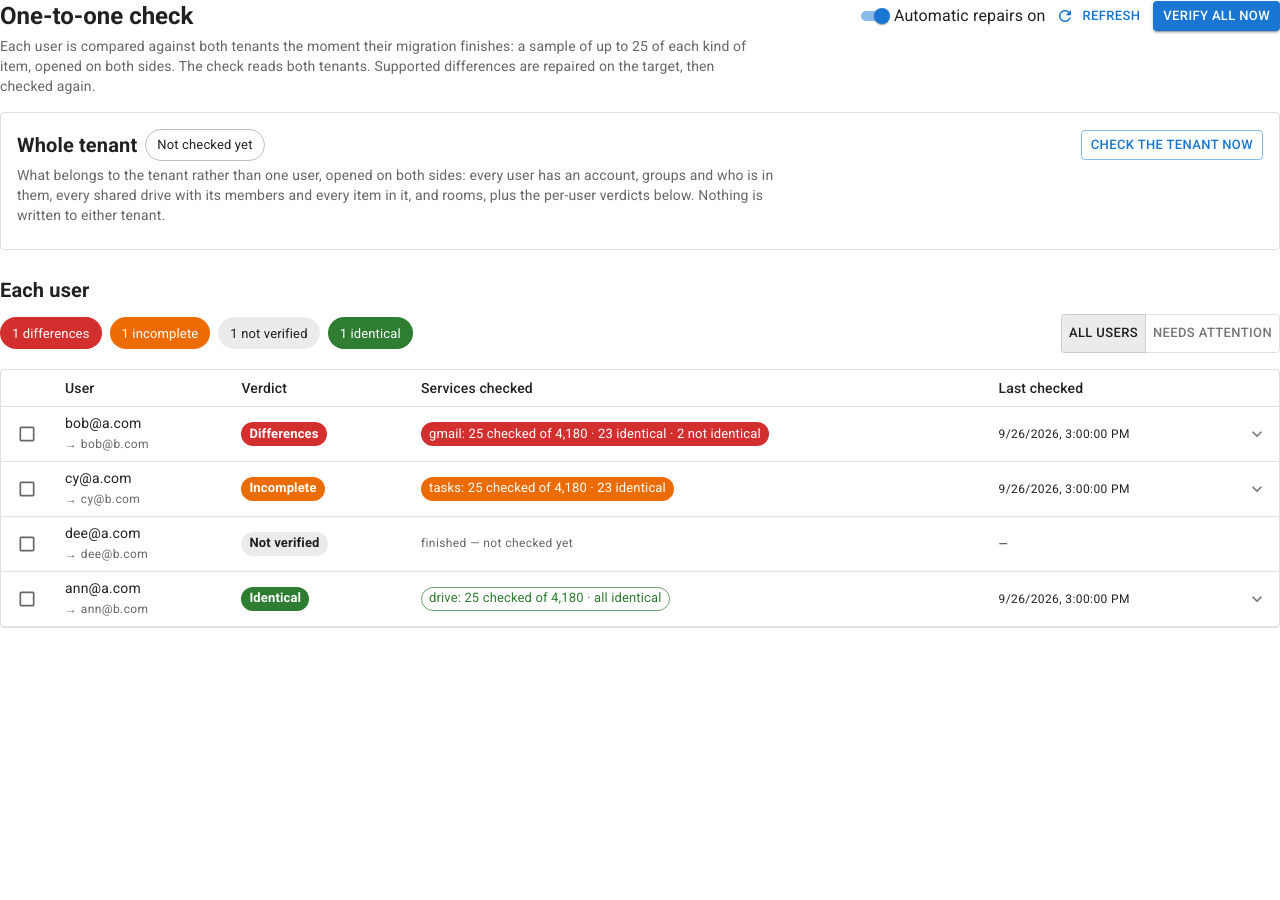
Test: Verify now › says what every item comes to before it is asked for
Click the button with test id "verify-now" at [1217, 16], box [1153,1,1279,31]
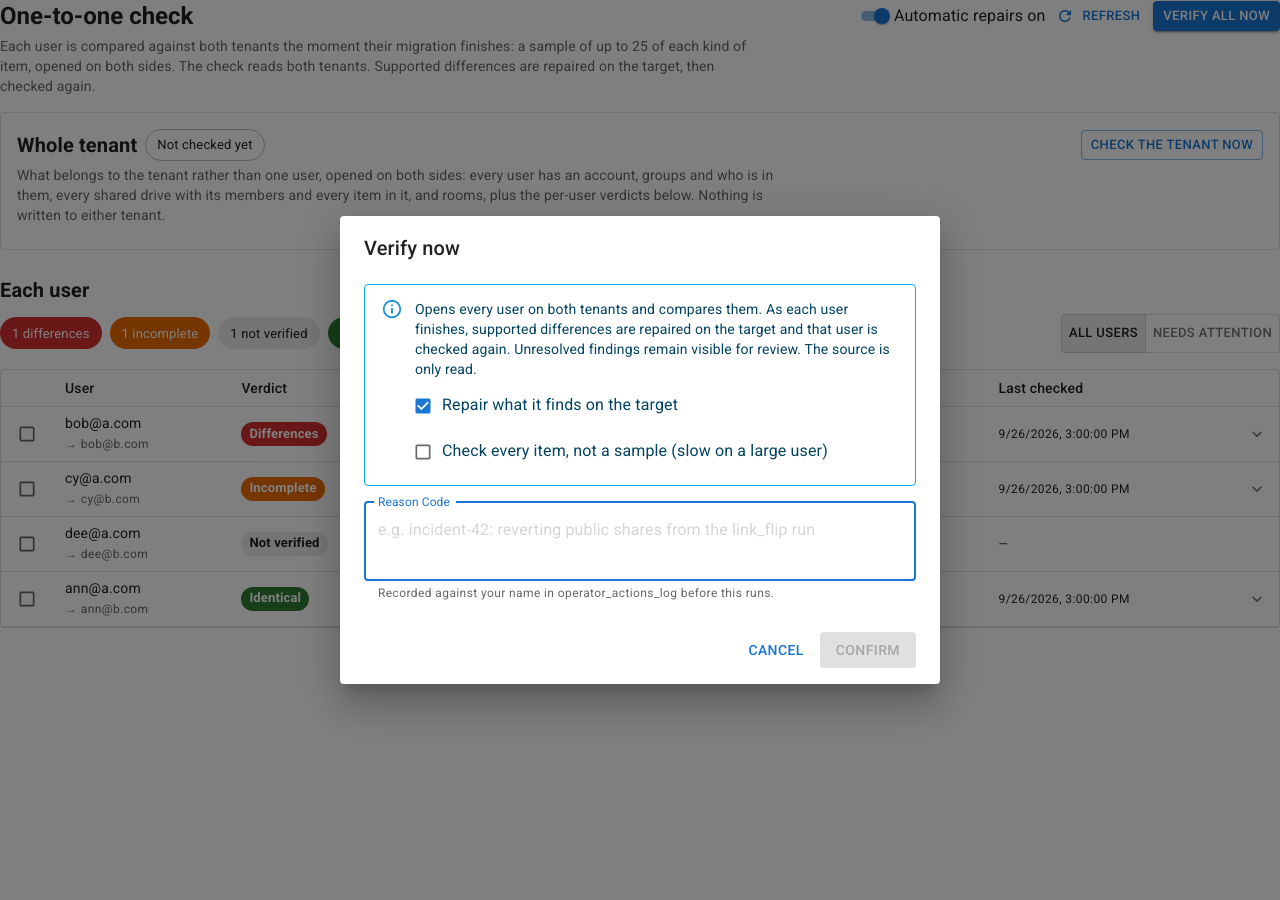
Click the 2nd checkbox labelled "Check every item" at [620, 451], box [413,440,828,462]
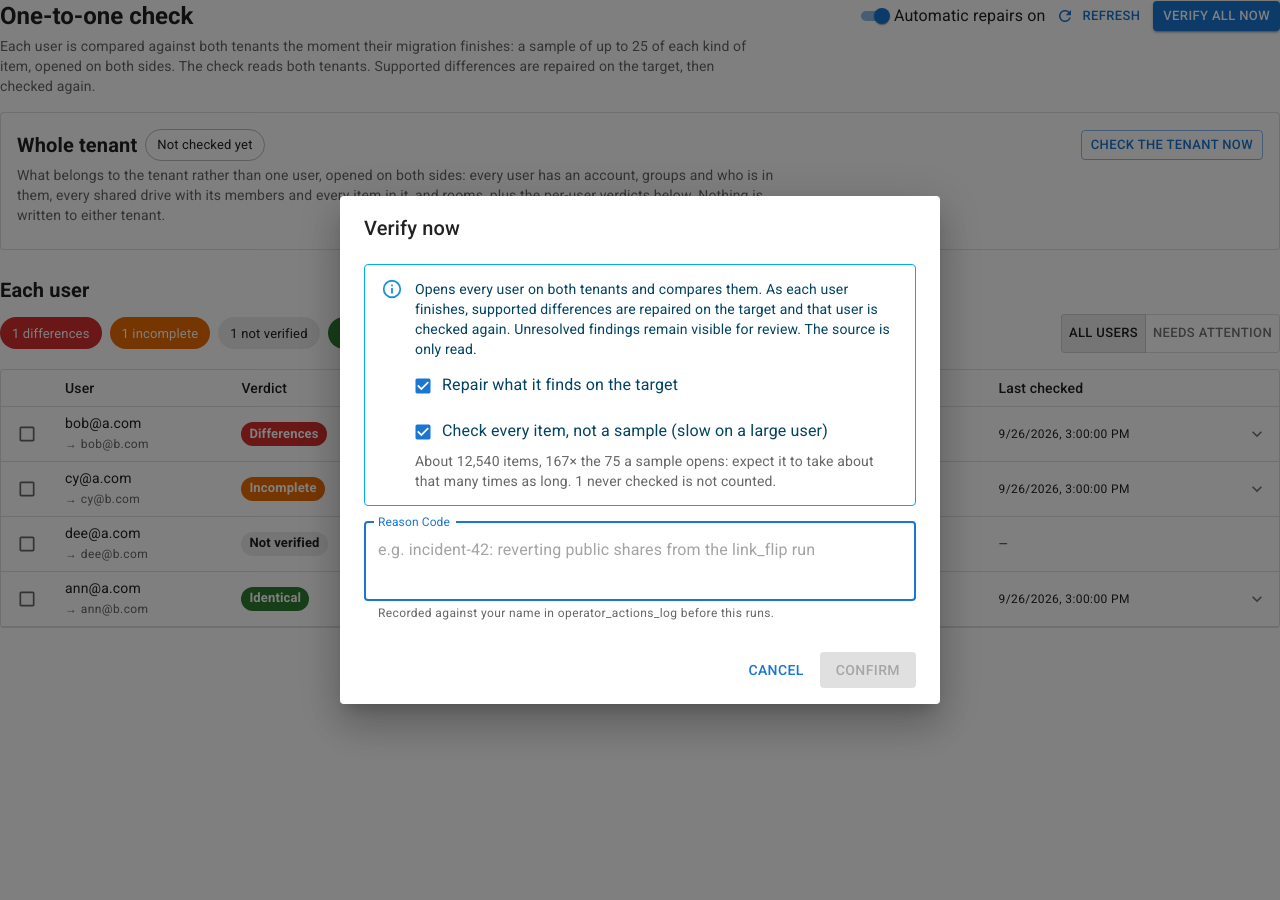
Expected: the text with test id "every-item-size" shows "About 12,540 items, 167× the 75 a sample opens", [415,453,874,489]
Expected: the text with test id "every-item-size" shows "1 never checked is not counted", [572,473,776,489]
